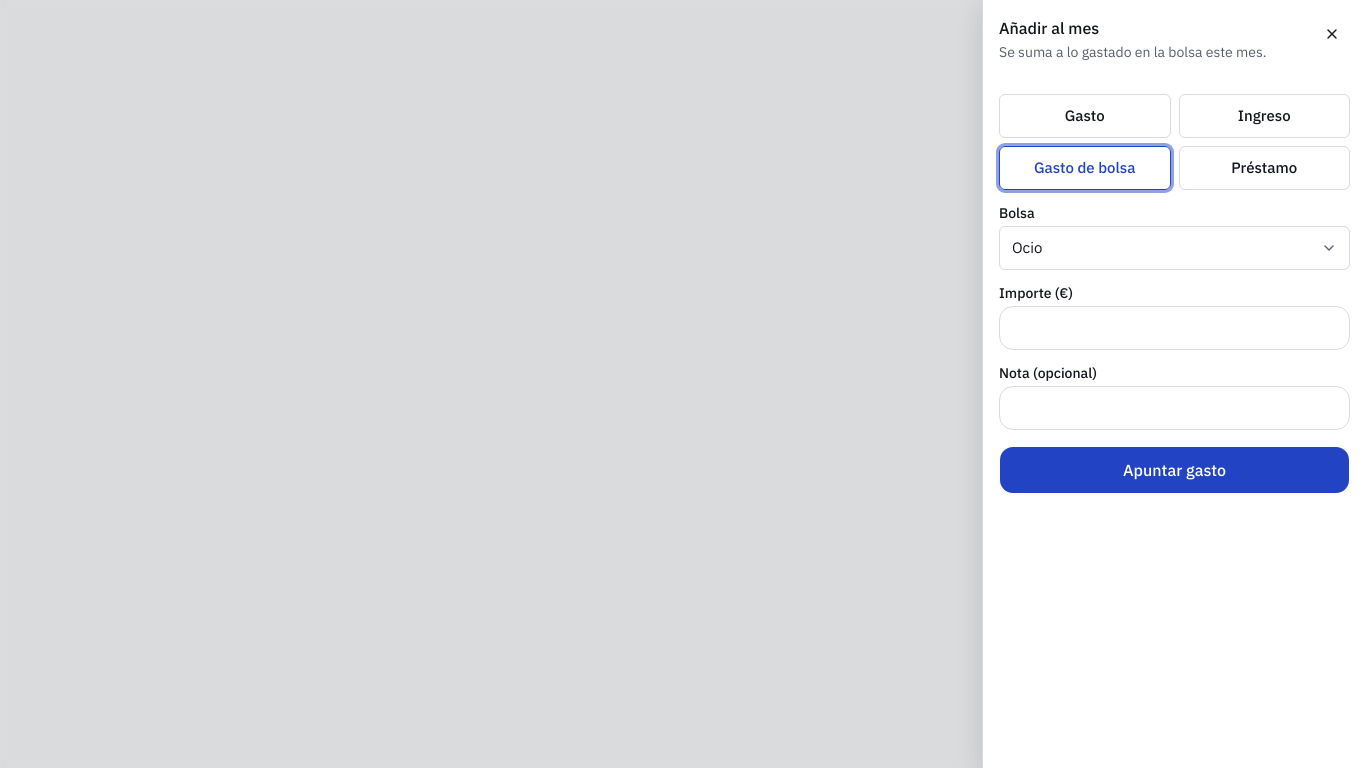
AddEntrySheet modos › rechaza un gasto de bolsa de 0 €
Type "0" into the field labelled "Importe (€)" at (1174, 328), box left=999, top=306, right=1350, bottom=350
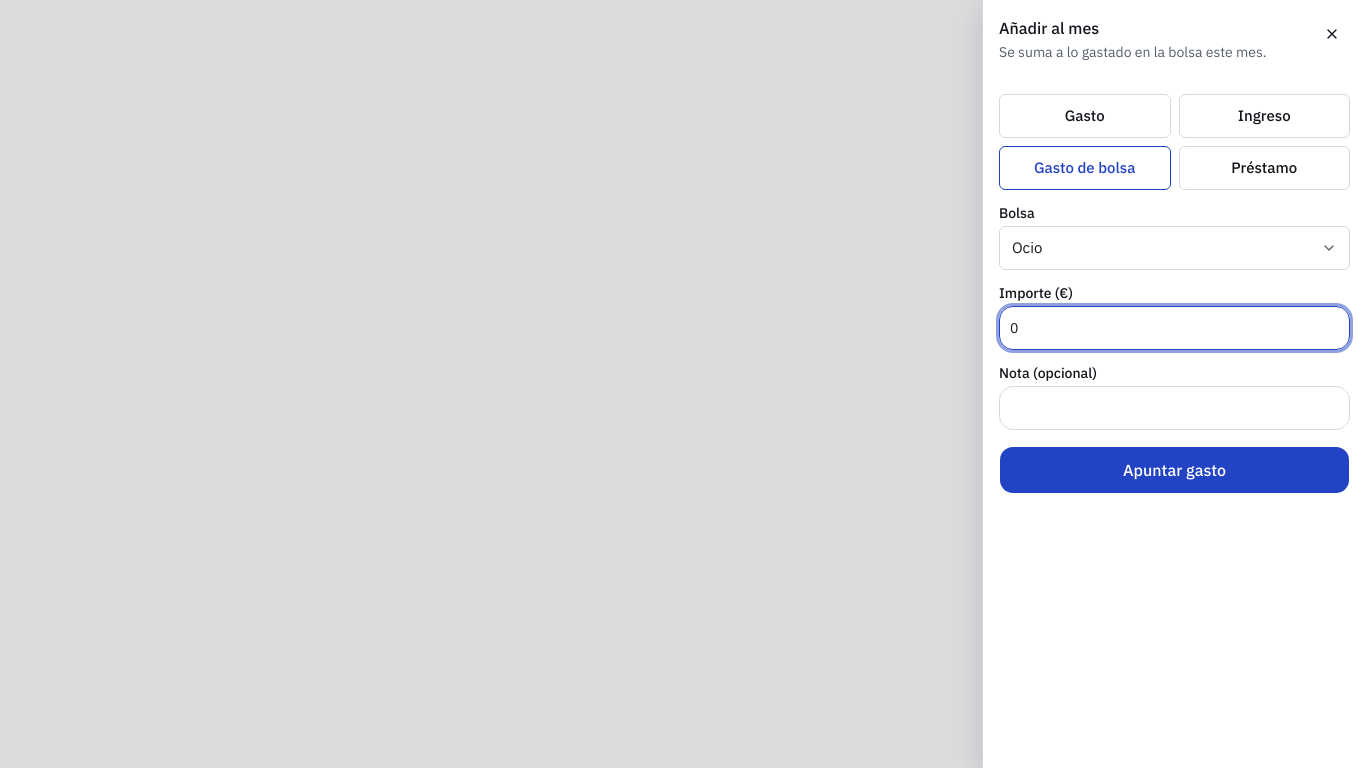
Click the button "Apuntar gasto" at (1174, 470), box left=999, top=446, right=1350, bottom=494
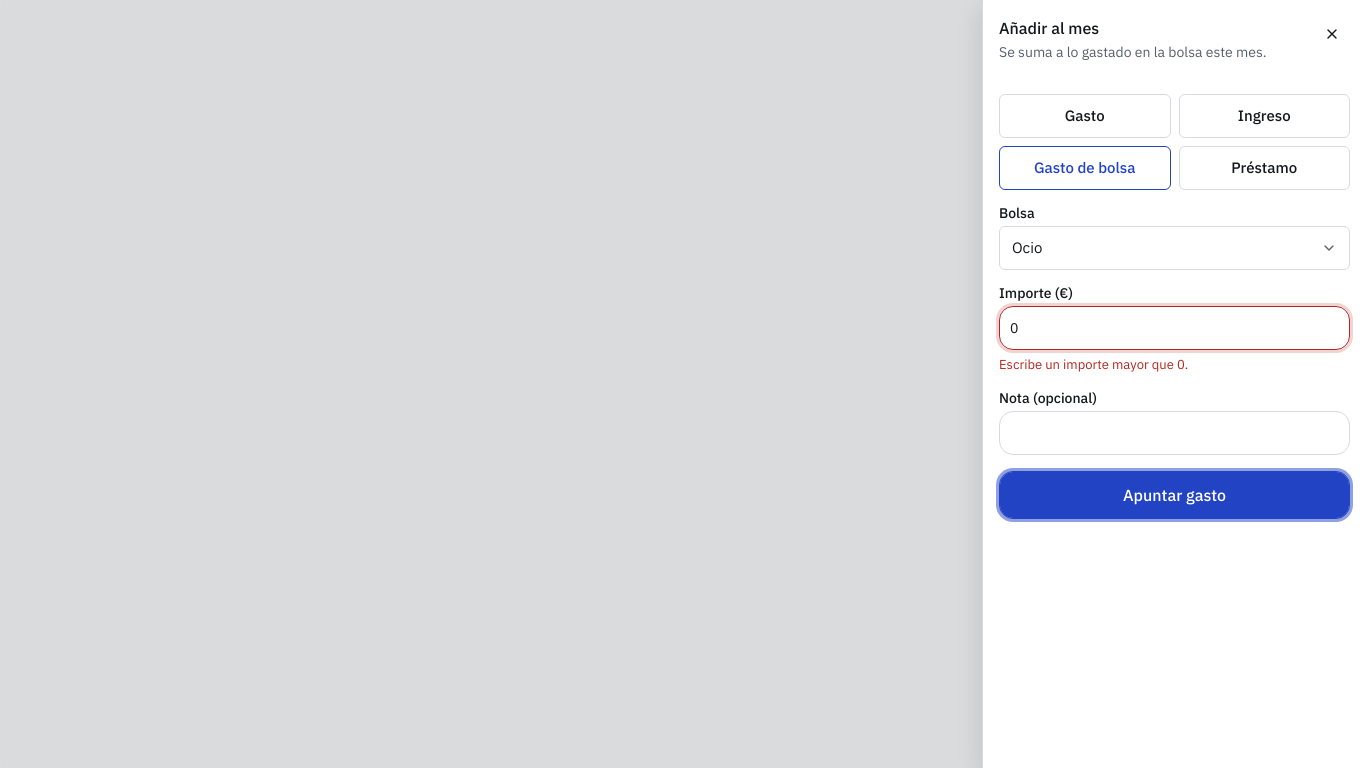
Check: the text "Escribe un importe mayor que 0." is shown, box left=999, top=356, right=1188, bottom=373
